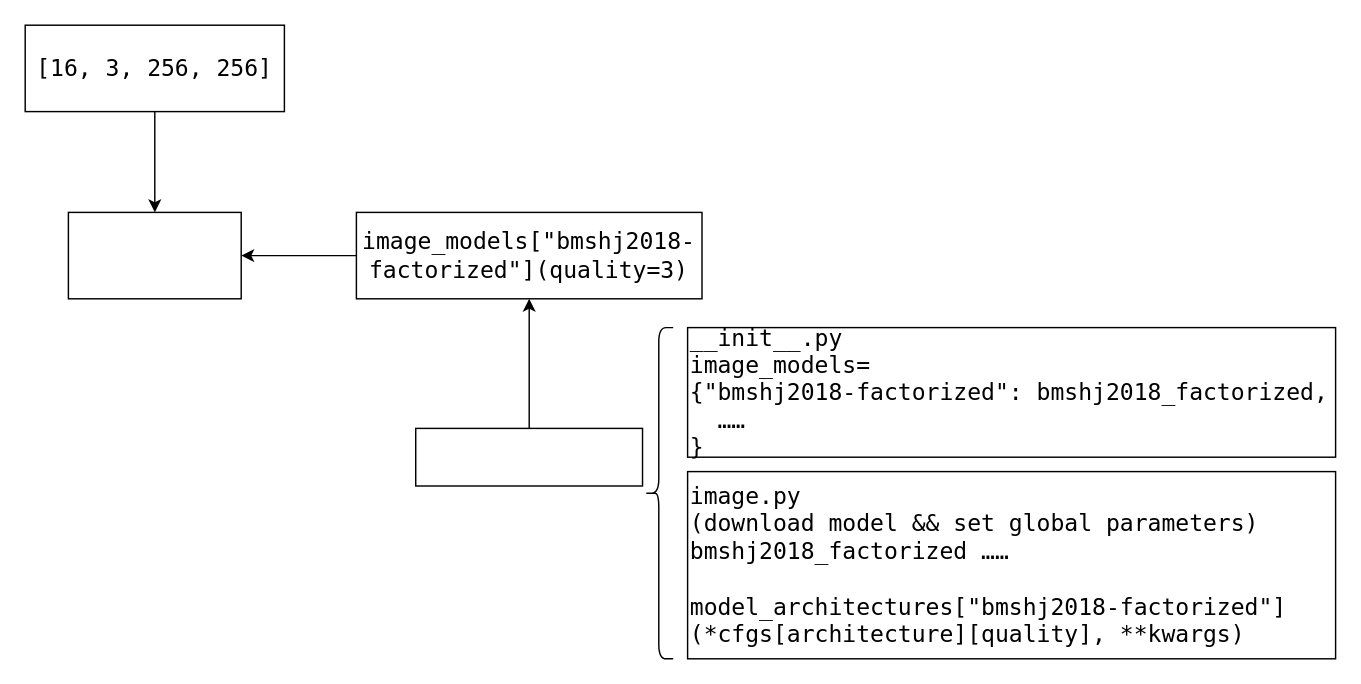
Some shapes in this 1361 by 684 pixel diagram are drawn without their labels. The box of each missing label's shape, as (x1, y1, x2, y2) in pixels:
compressai.zoo: (414, 427, 643, 486)
model: (67, 211, 241, 299)
